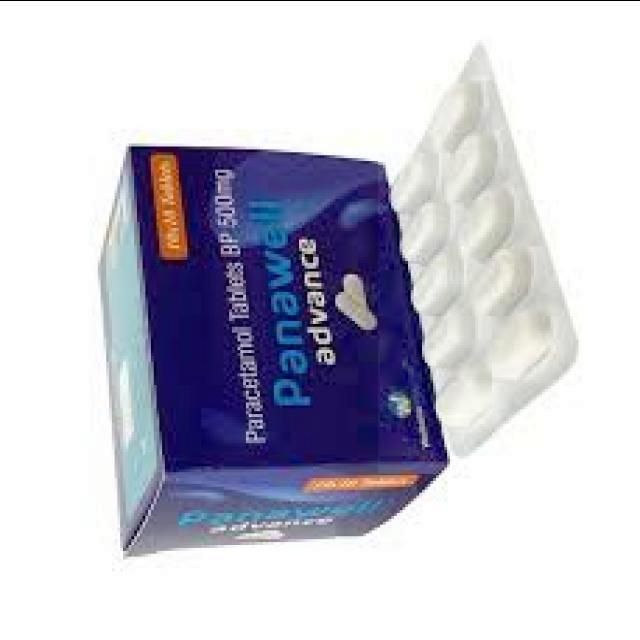authentic: (77, 143, 417, 577), (378, 15, 583, 472)
